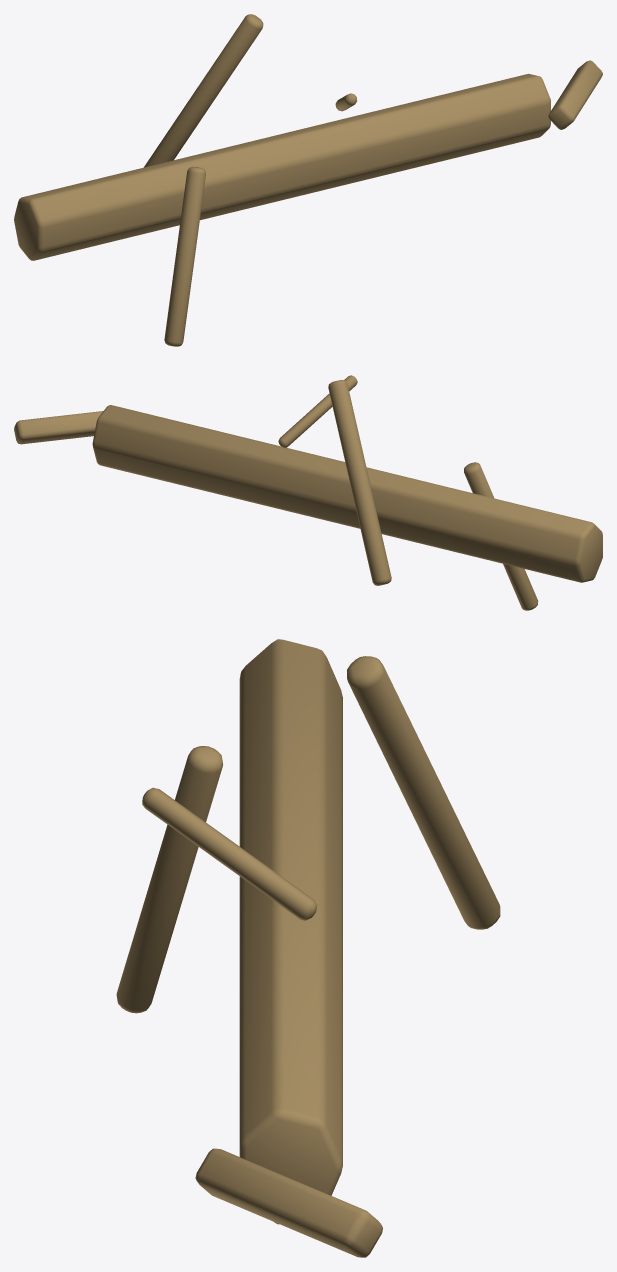
The model's file is Idol_Wood_Thorn.glb.
The picture shows the model from 3 angles, top to bottom: view 1: azimuth 30°, elevation 25°; view 2: azimuth 150°, elevation 25°; view 3: azimuth 270°, elevation 25°; orthographic projection. The views are drawn at different scales.
Visible parts, largest first — view 1: Idol_Wood_Thorn; view 2: Idol_Wood_Thorn; view 3: Idol_Wood_Thorn.
Part boxes in pixels (box(x1,y1,x2,y2)): Idol_Wood_Thorn: box(14, 14, 602, 346); Idol_Wood_Thorn: box(14, 375, 602, 610); Idol_Wood_Thorn: box(116, 639, 500, 1257).
Size of the model in its own units: 1.74 by 0.7084 by 0.5142.
